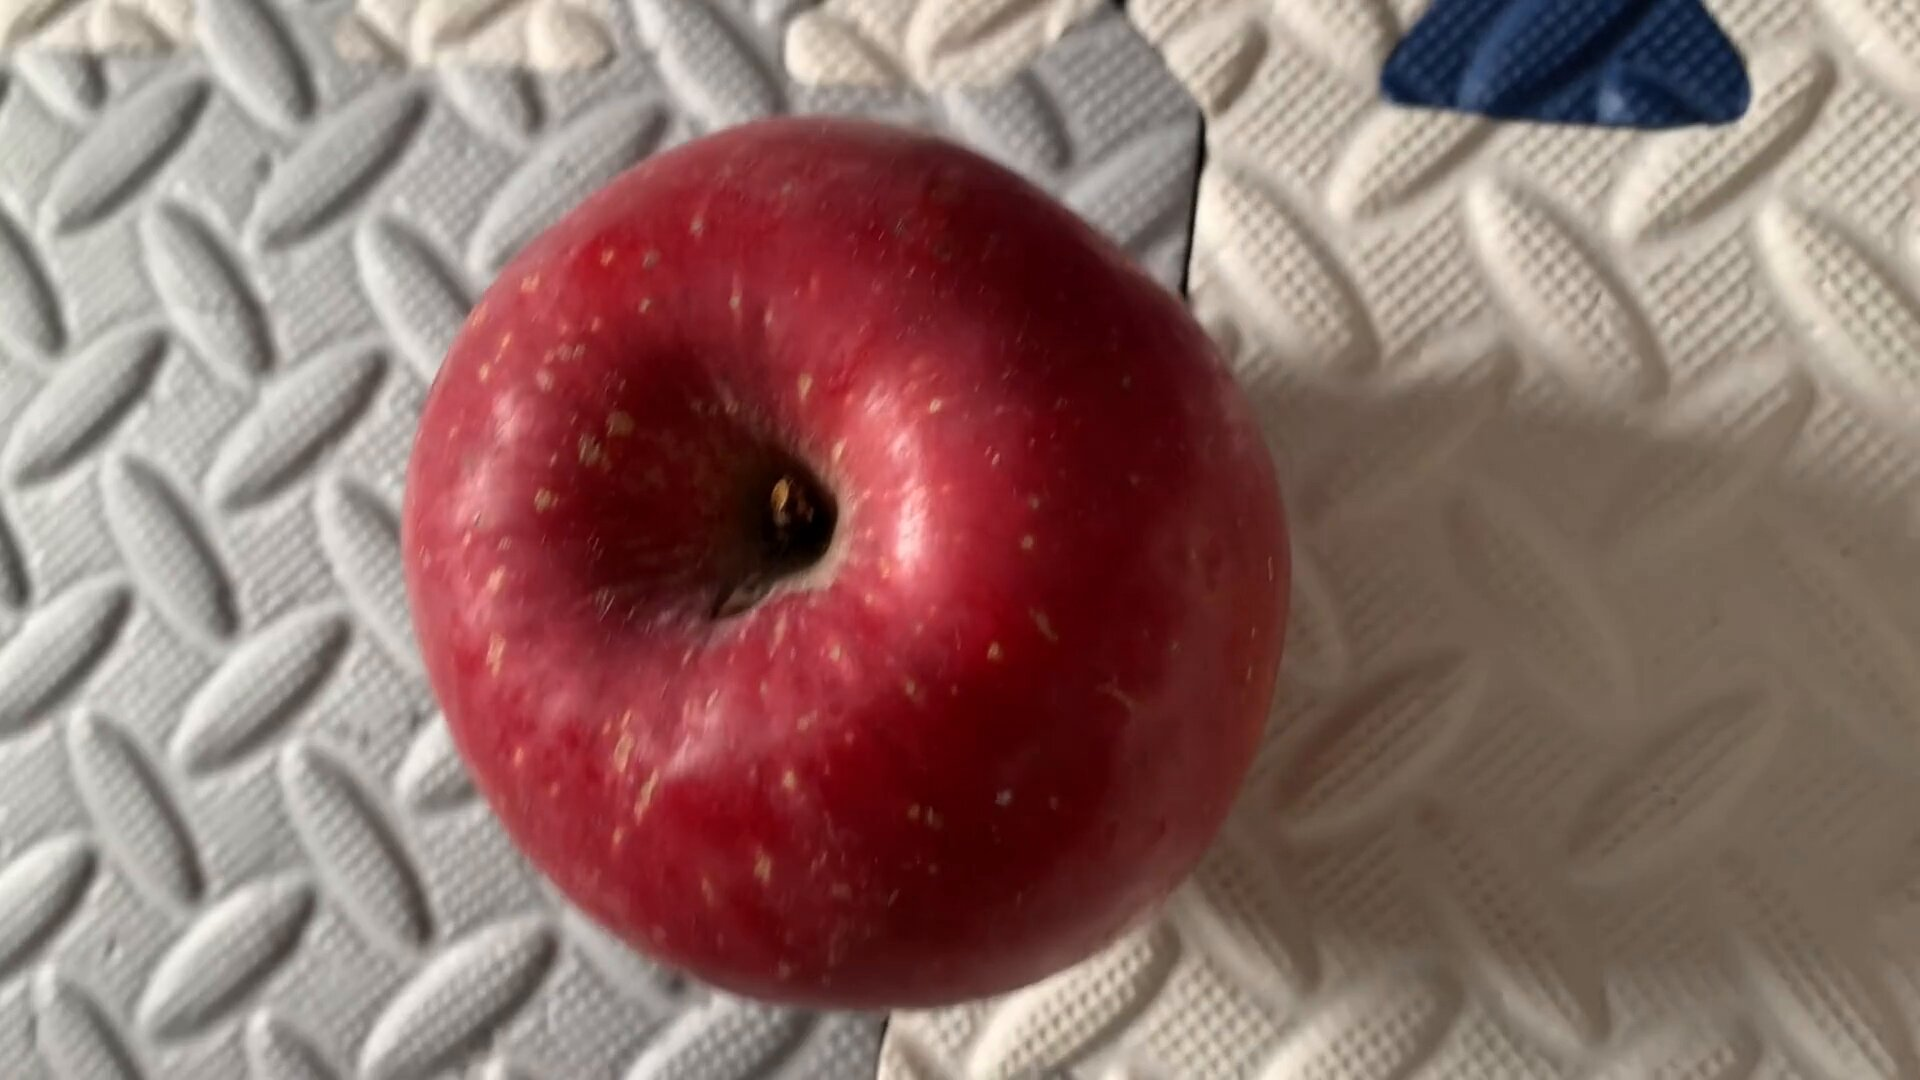不可回收水果: (367, 86, 1304, 1023)
